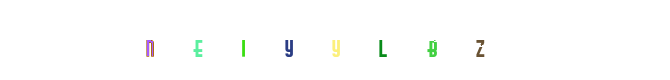1: (249, 0, 329, 80)
B: (330, 0, 410, 80)
E: (233, 0, 313, 80)
L: (327, 0, 407, 80)
N: (148, 0, 228, 80)
Y: (289, 0, 369, 80), (295, 0, 375, 80)
Z: (341, 0, 421, 80)
